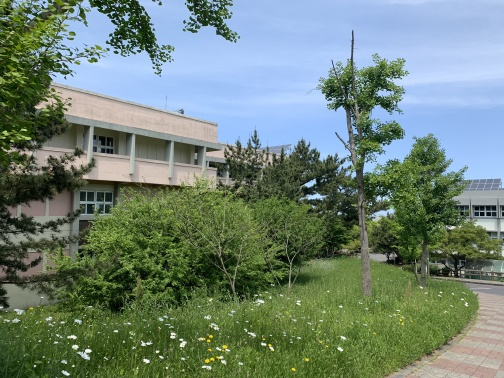College Of Education: (11, 82, 301, 314)
